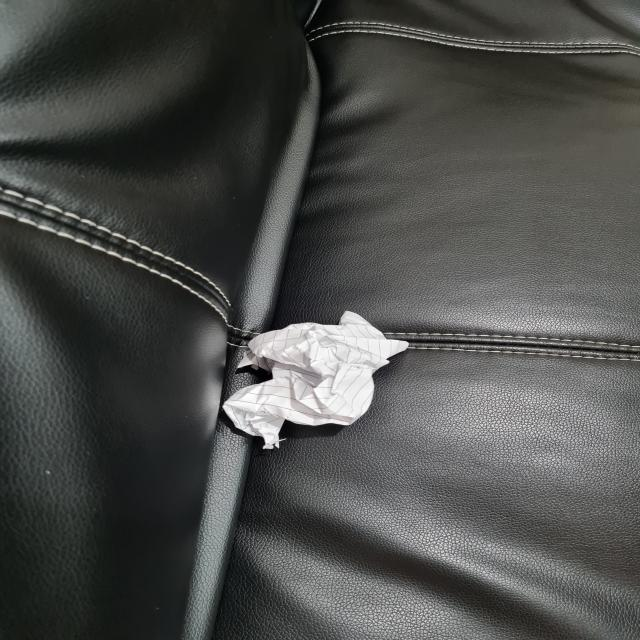Paper: (227, 314, 409, 446)
